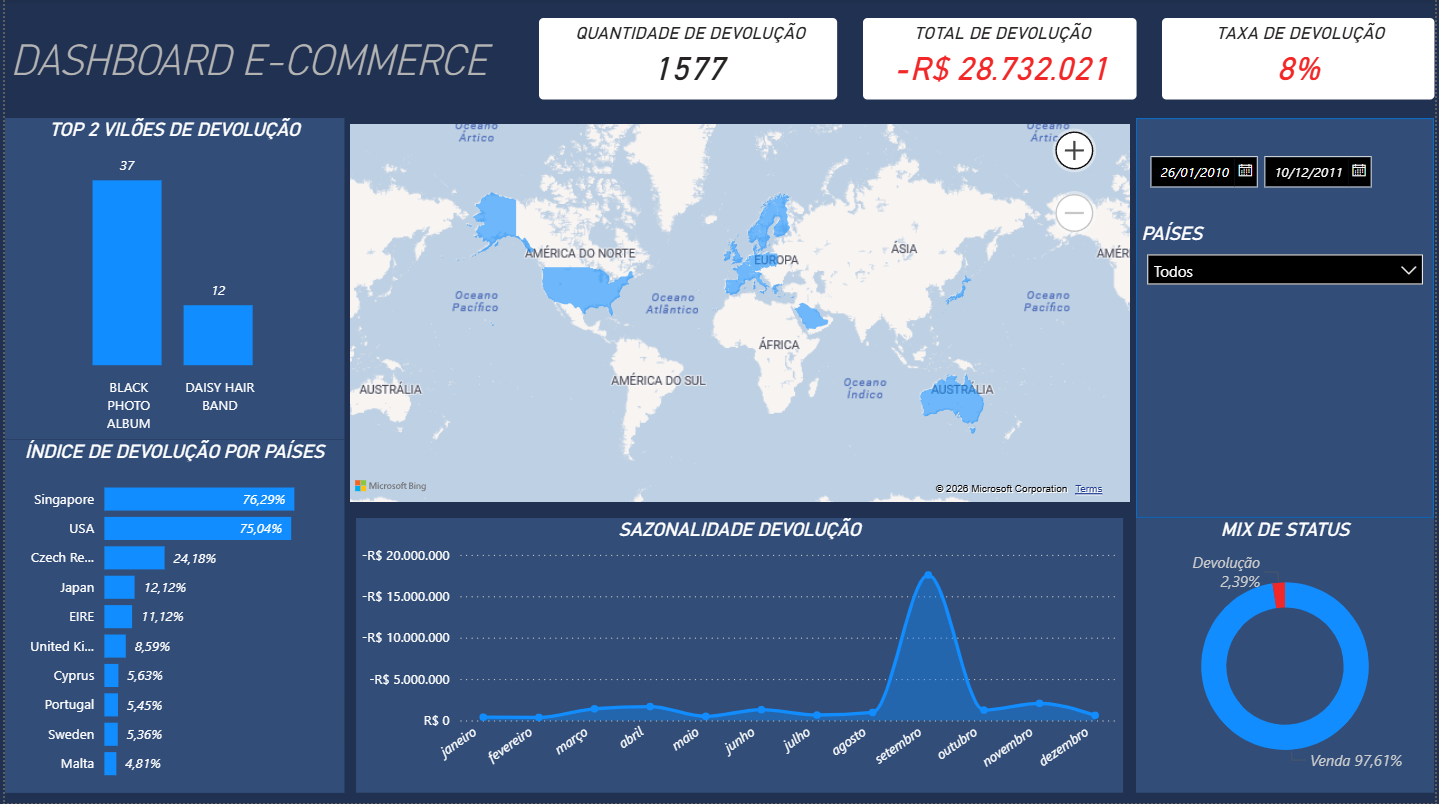

The dashboard page shown, as its layout file describes it:
{"tool":"powerbi","page":{"name":"ANÁLISE DE DEVOLUÇÃO","canvas":[1280,720],"ordinal":1},"visuals":[{"type":"barChart","title":"ÍNDICE DE DEVOLUÇÃO POR PAÍSES","fields":{"Category":["E_Commerce.Países"],"Y":["E_Commerce.Taxa_de_Devolucao %"]},"box":[0,394.9,303.6,316.1],"z":1},{"type":"card","title":"QUANTIDADE DE DEVOLUÇÃO","fields":{"Values":["E_Commerce.Qtd_Faturas_Devolvidas"]},"box":[478.2,17,266.9,73.4],"z":2},{"type":"columnChart","title":"TOP 2 VILÕES DE DEVOLUÇÃO","fields":{"Category":["E_Commerce.Descrição"],"Y":["E_Commerce.Total_DevoABS"]},"box":[0,106.6,303.6,288.4],"z":3},{"type":"areaChart","title":"SAZONALIDADE DEVOLUÇÃO","fields":{"Category":["E_Commerce.Data.Variation.Hierarquia de datas.Mês"],"Y":["E_Commerce.Total_Devolucoes"]},"box":[314.3,464.8,686.9,246.3],"z":4},{"type":"filledMap","fields":{"Category":["E_Commerce.Países"],"Y":["E_Commerce.Taxa_de_Devolucao %"]},"box":[303.6,106.6,709.3,349.3],"z":5},{"type":"donutChart","title":"MIX DE STATUS","fields":{"Category":["E_Commerce.Status"],"Y":["CountNonNull(E_Commerce.Faturamento)"]},"box":[1012.8,464.8,266.9,246.3],"z":6},{"type":"shape","box":[1012.8,106.6,266.9,358.2],"z":7},{"type":"slicer","fields":{"Values":["E_Commerce.Data"]},"box":[1012.8,130.7,266.9,69],"z":8},{"type":"card","title":"TOTAL DE DEVOLUÇÃO","fields":{"Values":["E_Commerce.Total_Devolucoes"]},"box":[768.4,17,245.4,73.4],"z":9},{"type":"card","title":"TAXA DE DEVOLUÇÃO","fields":{"Values":["E_Commerce.Taxa_de_Devolucao %"]},"box":[1036.1,17,243.6,73.4],"z":10},{"type":"textbox","box":[0,26.9,466.6,54.6],"z":11},{"type":"slicer","title":"PAÍSES","fields":{"Values":["E_Commerce.Países"]},"box":[1012.8,199.7,266.9,75.2],"z":12}]}

Visuals, with their boxes in screenshot pixels (x1, y1, x2, y2), scaled from the page's 1280x720 canvas onto the 1439x804 screenshot:
"ÍNDICE DE DEVOLUÇÃO POR PAÍSES" barChart: (0, 441, 341, 794)
"QUANTIDADE DE DEVOLUÇÃO" card: (538, 19, 838, 101)
"TOP 2 VILÕES DE DEVOLUÇÃO" columnChart: (0, 119, 341, 441)
"SAZONALIDADE DEVOLUÇÃO" areaChart: (353, 519, 1126, 794)
filledMap - E_Commerce.Países x E_Commerce.Taxa_de_Devolucao %: (341, 119, 1139, 509)
"MIX DE STATUS" donutChart: (1139, 519, 1438, 794)
shape: (1139, 119, 1438, 519)
slicer - E_Commerce.Data: (1139, 146, 1438, 223)
"TOTAL DE DEVOLUÇÃO" card: (864, 19, 1140, 101)
"TAXA DE DEVOLUÇÃO" card: (1165, 19, 1438, 101)
textbox: (0, 30, 525, 91)
"PAÍSES" slicer: (1139, 223, 1438, 307)
